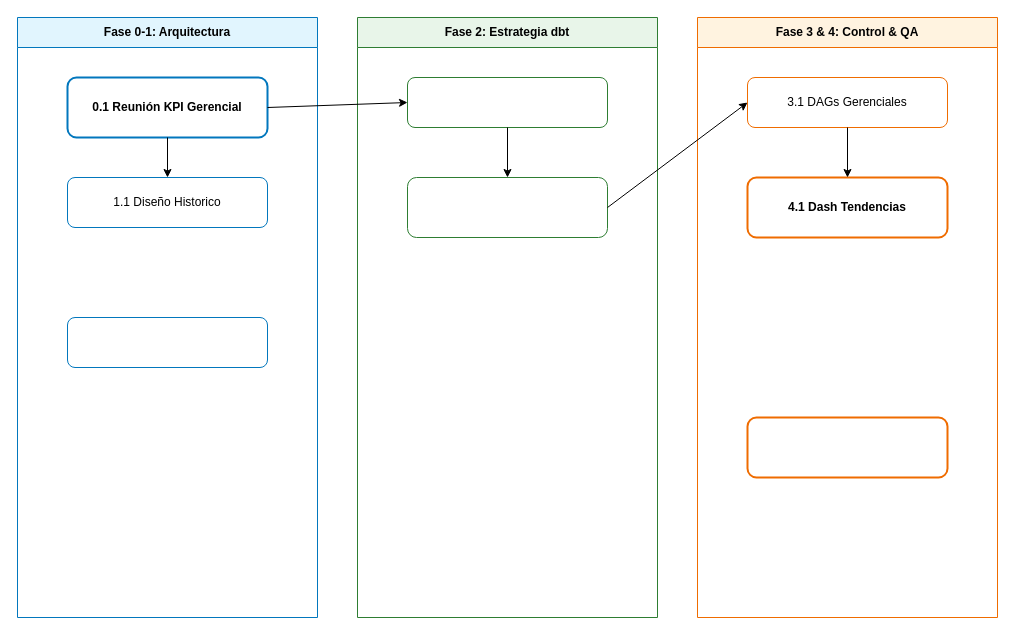
Some shapes in this 1015 by 635 pixel diagram are drawn without their labels. The shapes that lost their labels are listed below. From the top down, each one's centre as x and y in pixels, then its label:
the point at 507,102: 2.1 Macros Eficiencia
the point at 507,207: 2.2 Modelo Estados
the point at 167,342: 1.5 Setup RLS
the point at 847,447: 4.6 Firma Cierre
